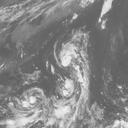cyclone: (54, 31, 89, 98)
